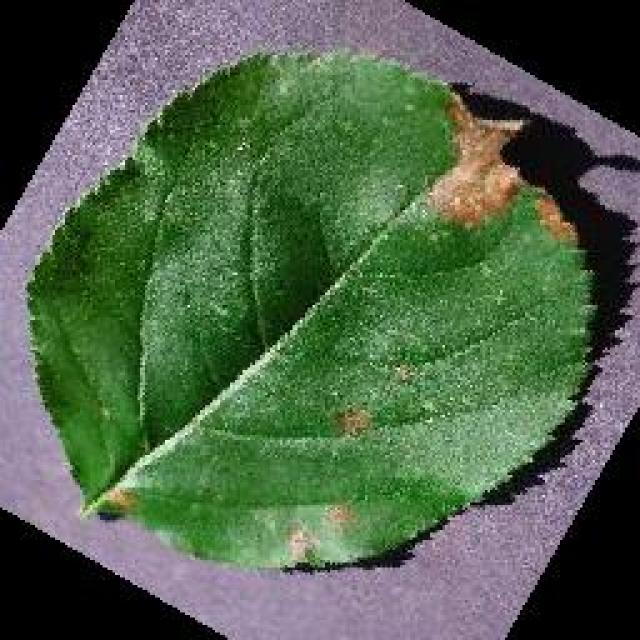Apple___Black_rot: (19, 45, 601, 573)
